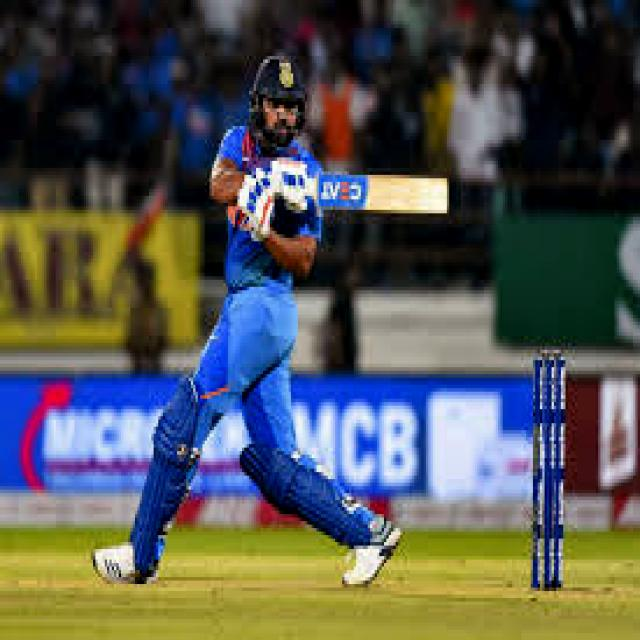toe: (428, 173, 451, 221)
